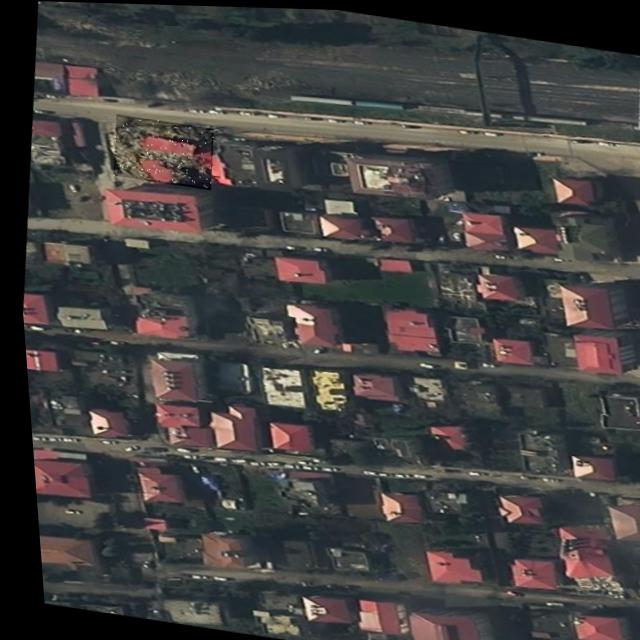Rubble: (106, 113, 214, 188)
